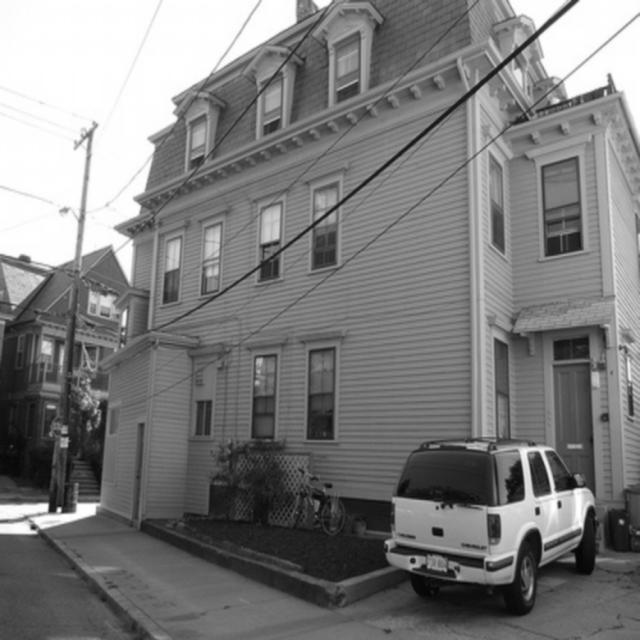ash bin: (605, 504, 631, 552)
bicycle: (286, 469, 344, 536)
car: (383, 435, 603, 621)
pole: (46, 128, 95, 510)
